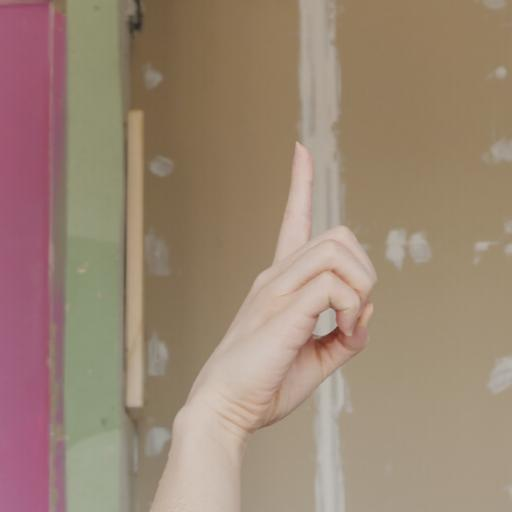D: (192, 138, 382, 438)
